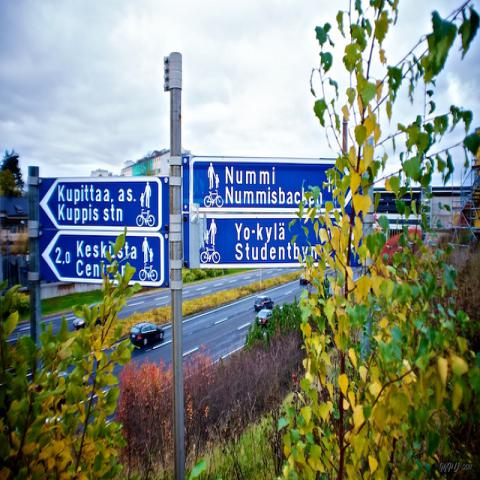car: (73, 302, 110, 330), (129, 321, 164, 348), (254, 295, 274, 311), (257, 309, 272, 327), (300, 272, 310, 284)
